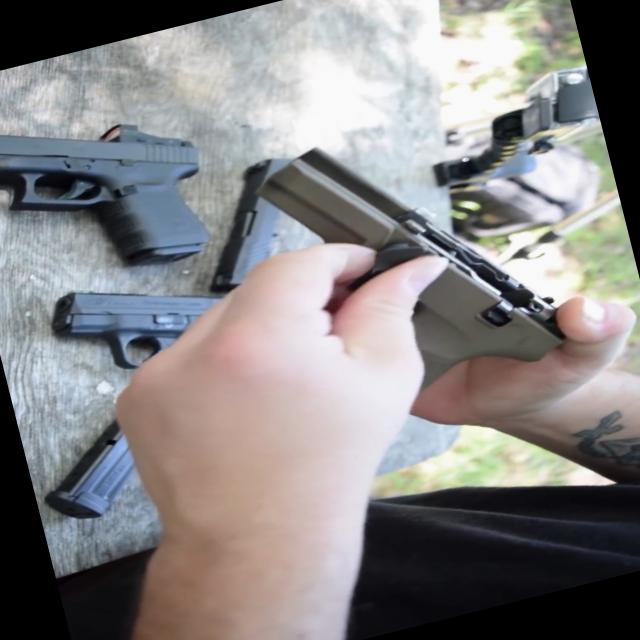handgun: (212, 90, 584, 437), (0, 62, 232, 321), (29, 232, 305, 418)
